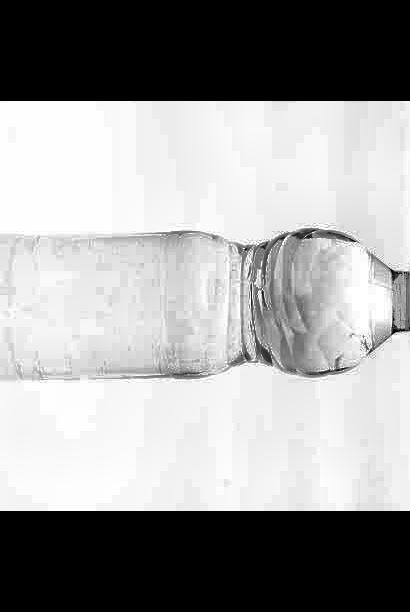waterbottle: (0, 195, 410, 418)
